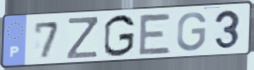3: (211, 8, 244, 51)
7: (33, 19, 61, 60)
E: (137, 12, 174, 56)
G: (102, 13, 137, 58), (175, 11, 208, 53)
Z: (66, 16, 99, 61)
